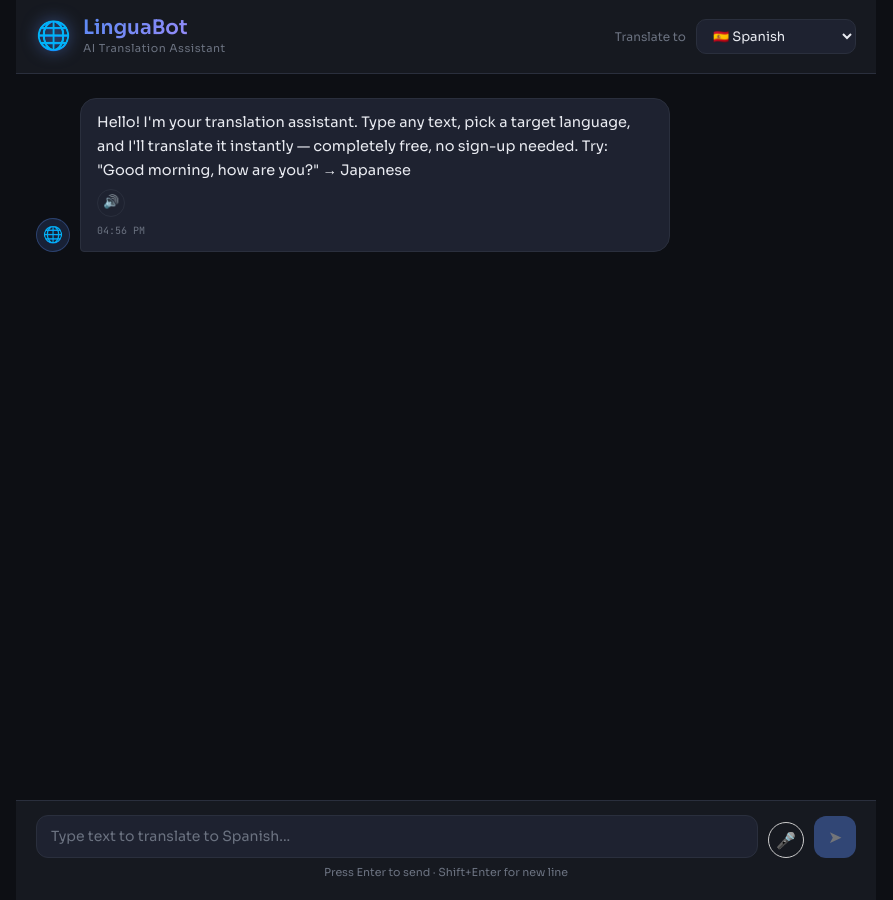
Scenario: Integration: voice recognition wiring › a final recognition result populates the textarea
The width and height of the screenshot is (893, 900).
Note: Start recording via the voice button
Click the button named "Start voice input" at (786, 840), box [768,822,804,858]
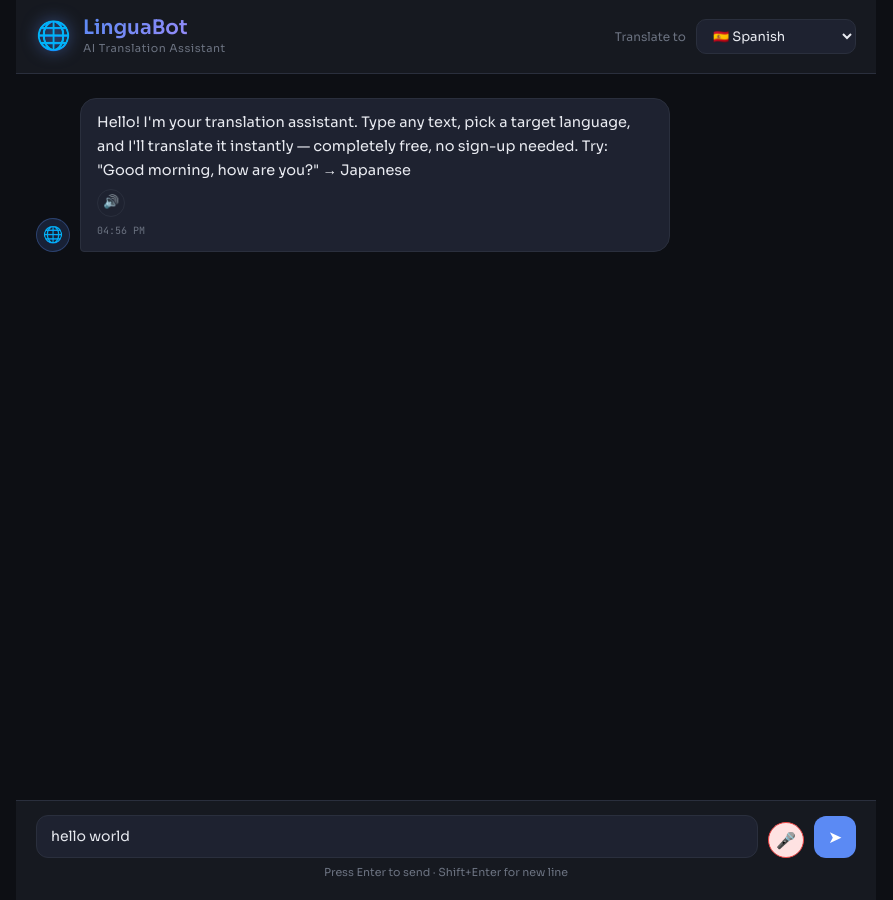
Expected: the text box holds "hello world", [36,815,758,858]
